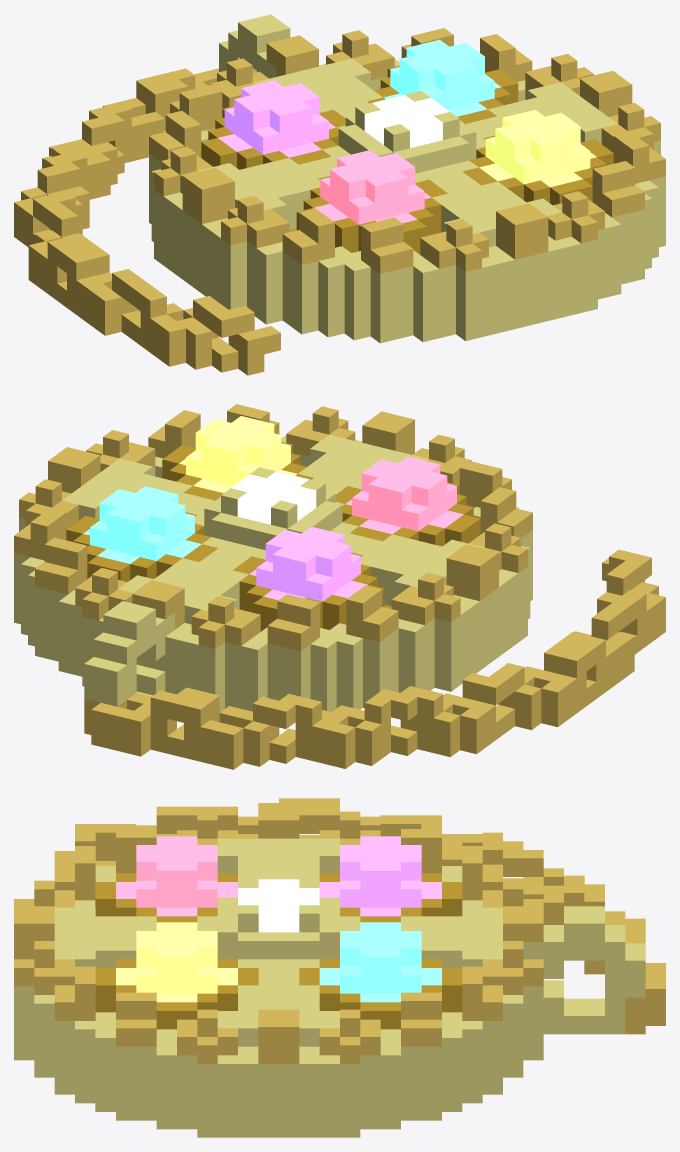
File: item_AMULET.glb
3 renders of one model, top to bottom at view 1: azimuth 30°, elevation 25°; view 2: azimuth 150°, elevation 25°; view 3: azimuth 270°, elevation 25°, orthographic. The views are drawn at different scales.
Parts seen in each view (by area): view 1: item_AMULET; view 2: item_AMULET; view 3: item_AMULET.
Part boxes in pixels (x1,y1,x2,y2): item_AMULET: (14,14,665,375); item_AMULET: (14,404,665,769); item_AMULET: (14,798,665,1137).
Size of the model in its own units: 0.375 by 0.0795 by 0.3636.
Materials: 1 (1 with a texture image).
